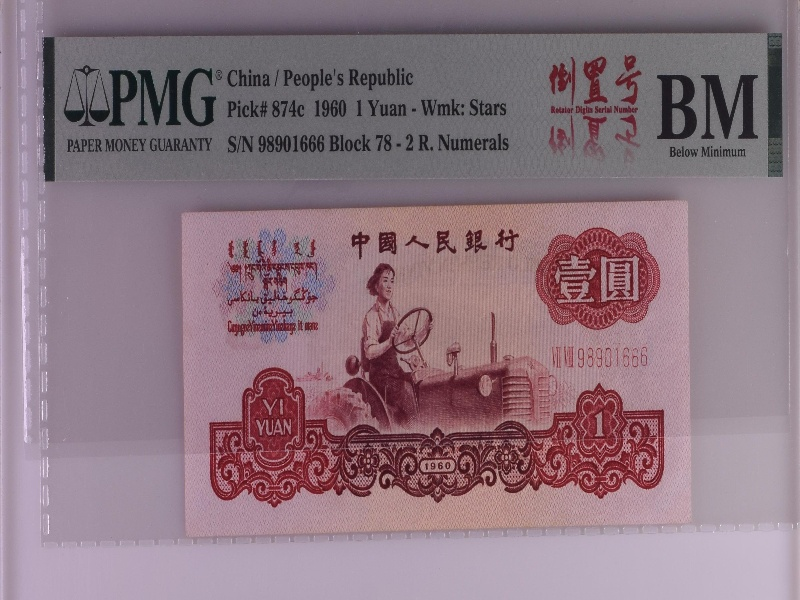papernote: (177, 206, 694, 528)
